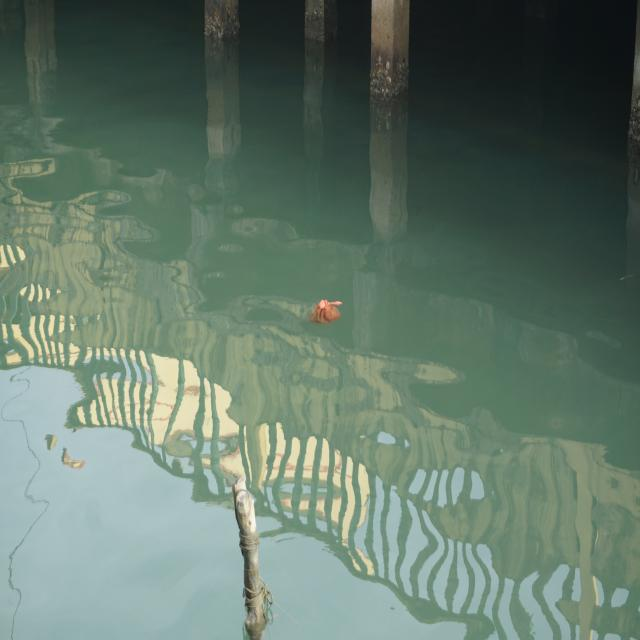Kantong Plastik: (306, 292, 346, 334)
